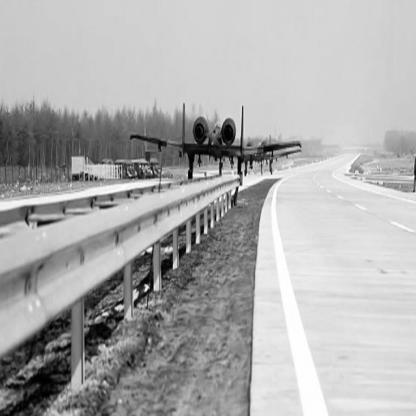A10: (131, 102, 303, 186), (245, 134, 303, 177)
